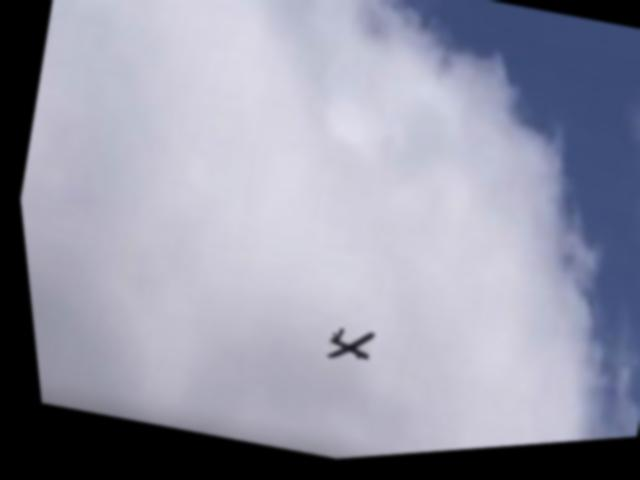uav: (312, 322, 371, 374)
